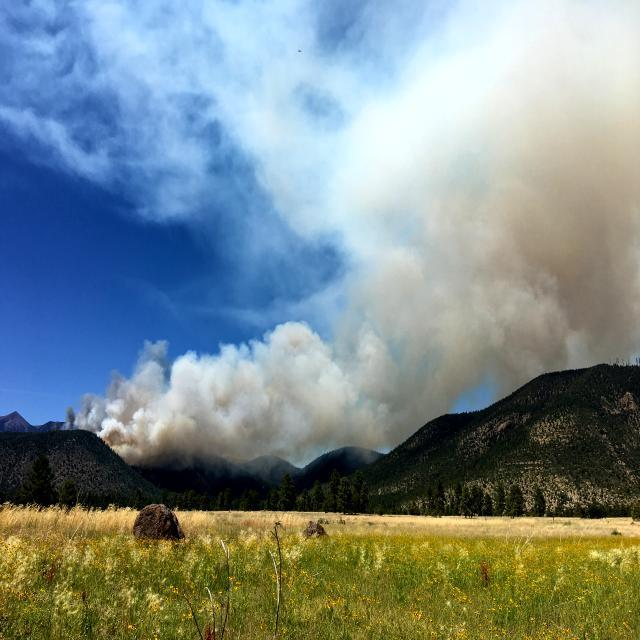Smoke: (53, 121, 640, 468)
